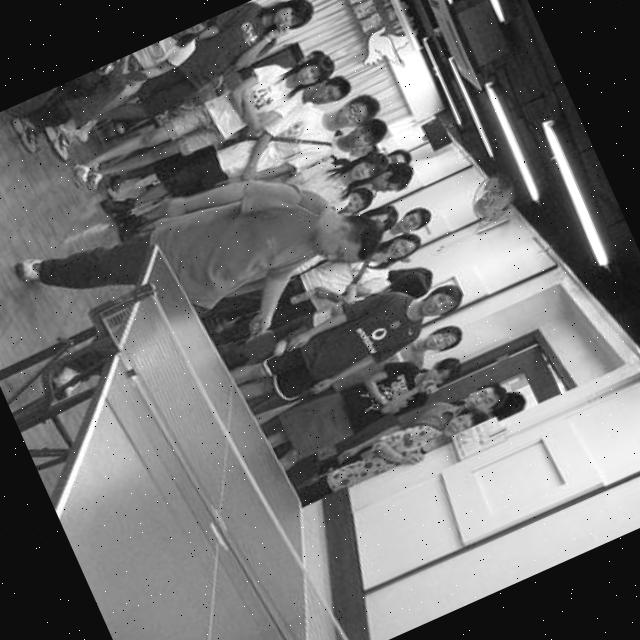ping-pong-ball: (270, 338, 290, 358)
